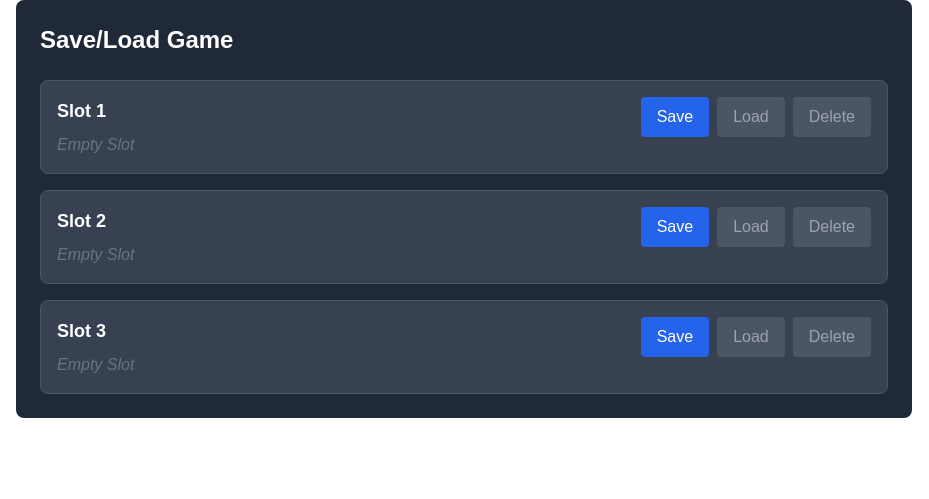
Test: SaveLoadMenu › should handle errors when saving fails
Click the 1st button "Save".
click(675, 117)  # box x1=641 y1=97 x2=709 y2=137
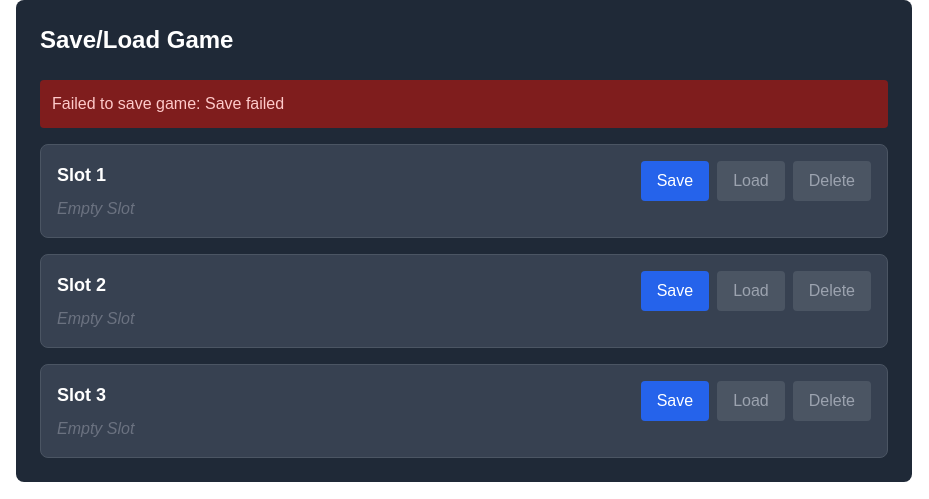
Result: the text "Failed to save game: Save failed" is shown at x1=40 y1=80 x2=888 y2=128
